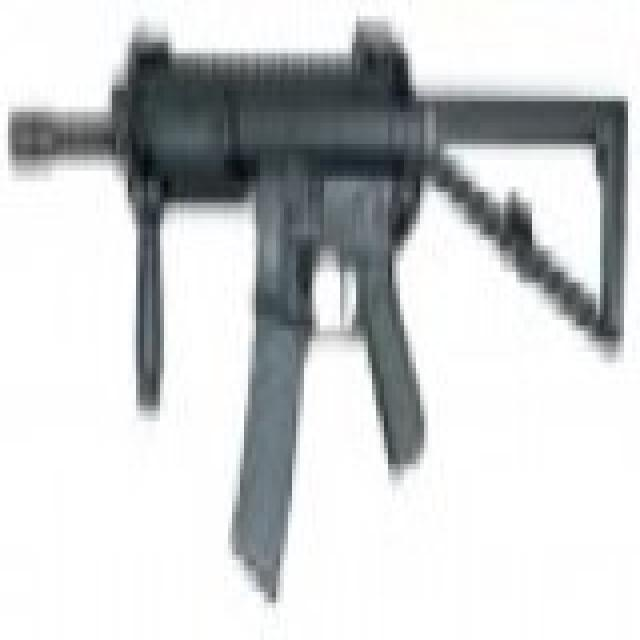Gun: (0, 0, 634, 609)
